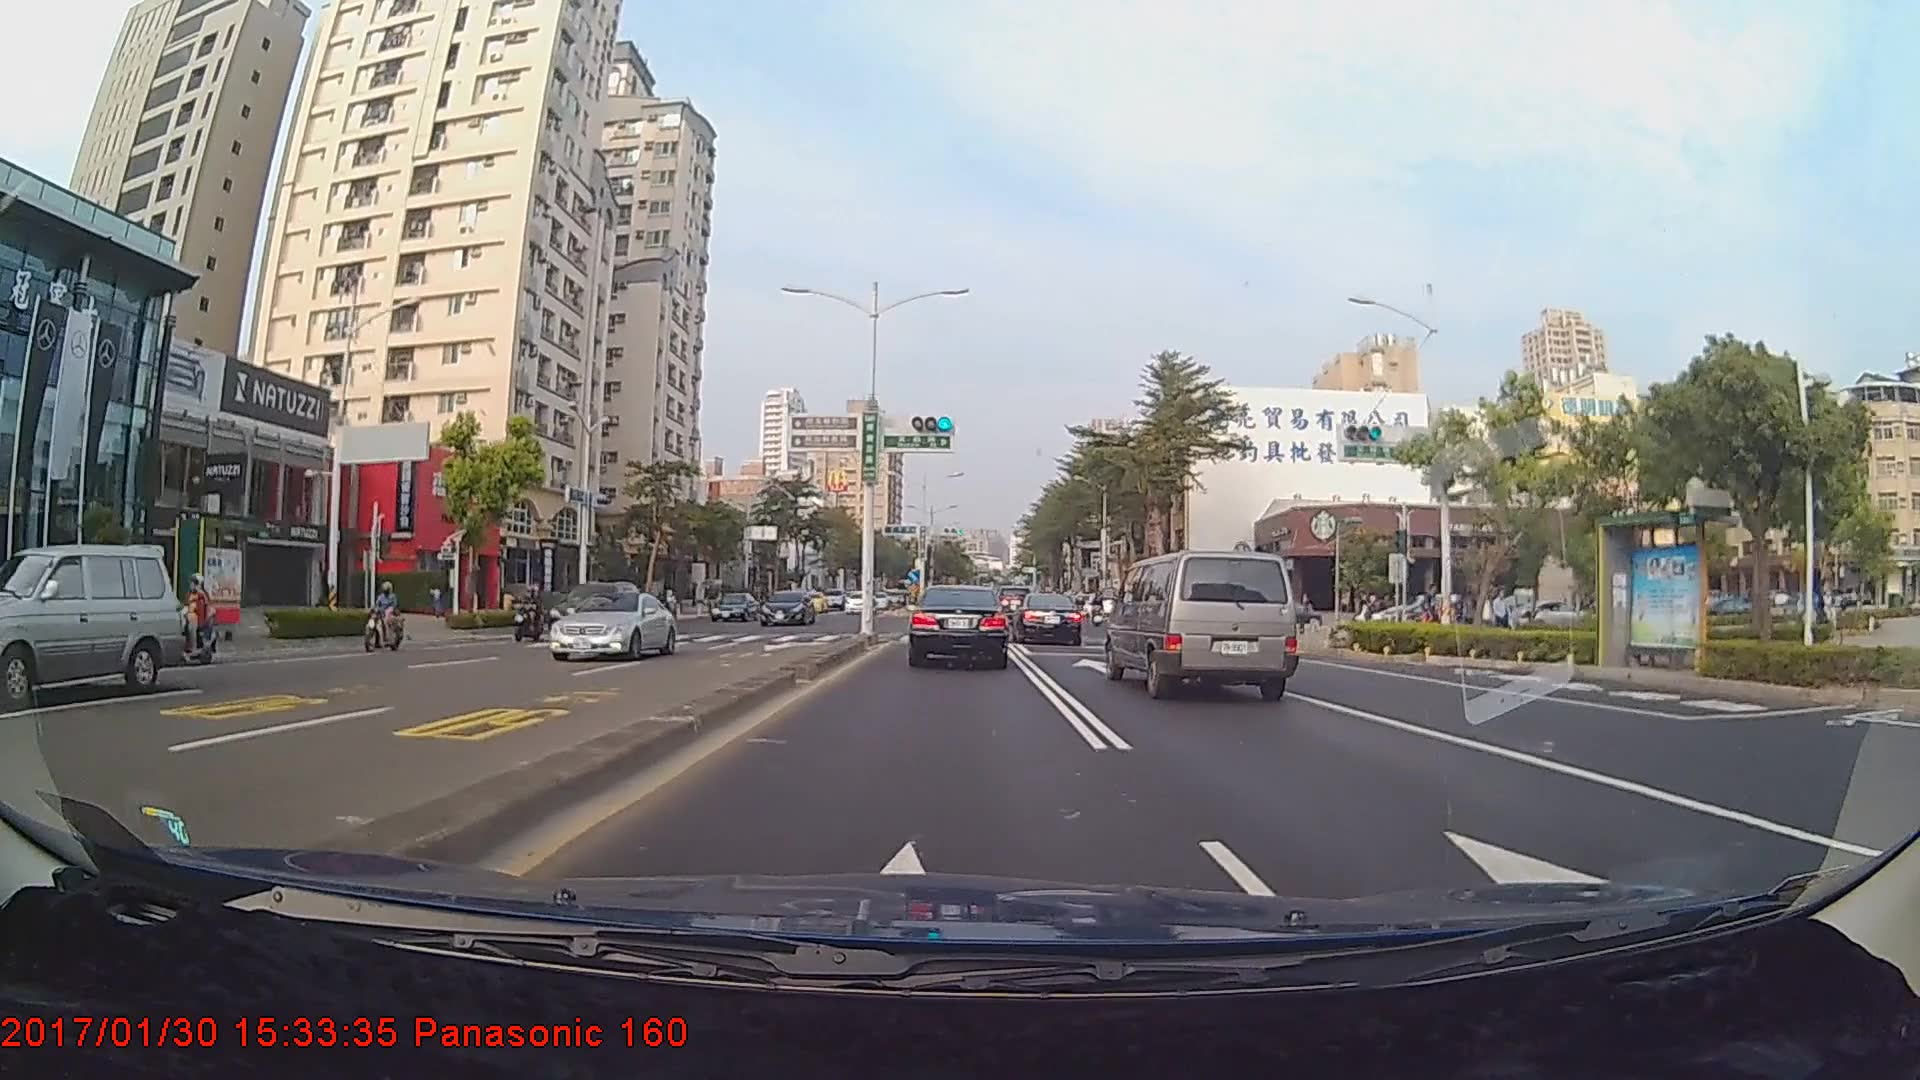rider: (163, 571, 219, 666), (362, 576, 415, 657), (509, 580, 548, 645)
vehicle: (0, 545, 188, 708), (1104, 546, 1300, 700), (546, 590, 675, 663), (908, 584, 1007, 667), (548, 580, 643, 644), (1011, 593, 1084, 646), (758, 588, 818, 627), (710, 592, 759, 621), (844, 591, 876, 613)
